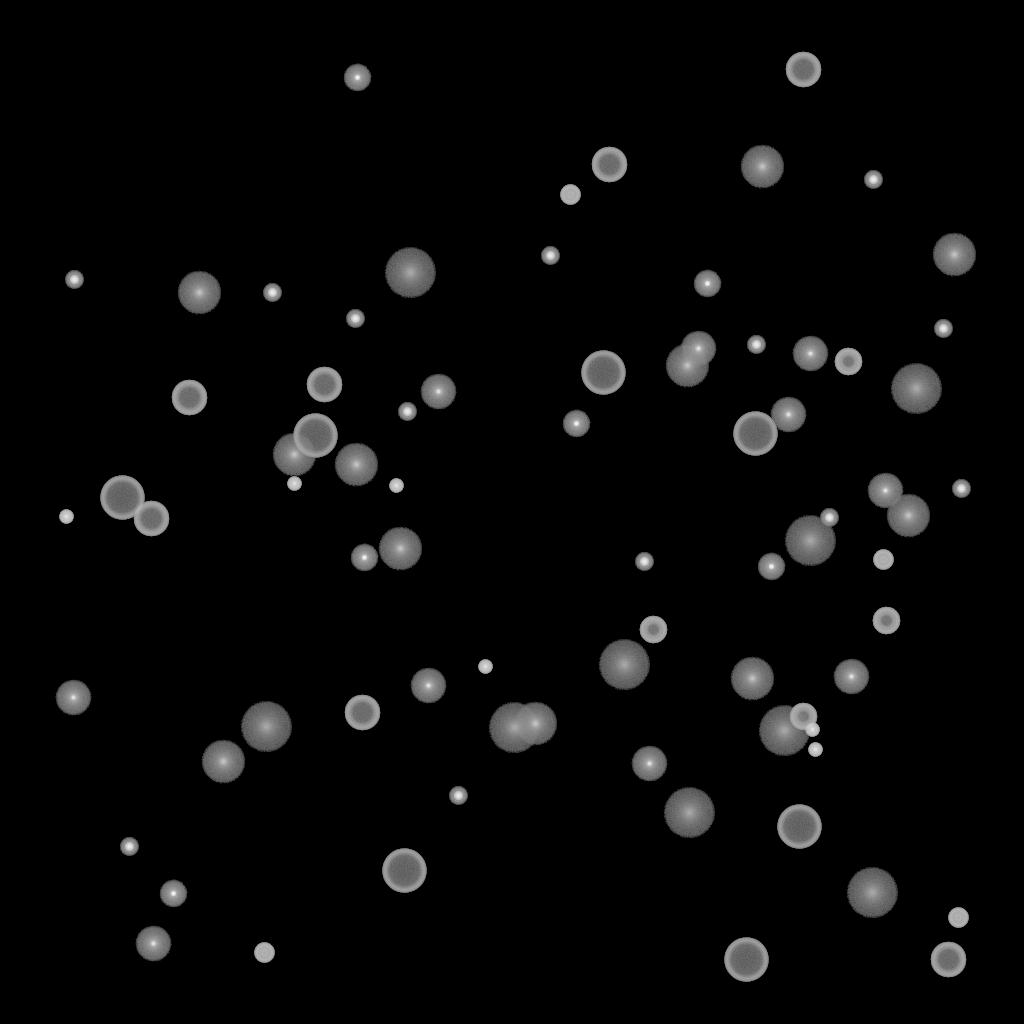depth:-10: (757, 553, 785, 581), (693, 270, 721, 298), (159, 880, 187, 908), (562, 410, 590, 438), (350, 544, 378, 572), (343, 64, 371, 92)
depth:-20: (449, 787, 467, 805), (820, 509, 838, 527), (934, 320, 952, 338), (747, 336, 765, 354), (952, 480, 970, 498), (398, 403, 416, 421), (120, 838, 138, 856), (864, 171, 882, 189), (541, 247, 559, 265), (263, 284, 281, 302), (346, 310, 364, 328), (65, 271, 83, 289), (635, 553, 653, 571)
depth:-30: (478, 660, 492, 674), (389, 479, 403, 493), (287, 477, 301, 491), (808, 743, 822, 757), (805, 723, 819, 737), (59, 510, 73, 524)
depth:-40: (560, 185, 580, 205), (254, 943, 274, 963), (948, 908, 968, 928), (873, 550, 893, 570)
depth:-50: (639, 616, 667, 644), (872, 607, 900, 635), (834, 348, 862, 376), (789, 703, 817, 731)
depth:-60: (133, 501, 169, 537), (930, 942, 966, 978), (344, 695, 380, 731), (171, 380, 207, 416), (785, 52, 821, 88), (306, 367, 342, 403), (591, 147, 627, 183)
depth:-70: (581, 351, 625, 395), (724, 938, 768, 982), (293, 414, 337, 458), (777, 805, 821, 849), (382, 849, 426, 893), (733, 412, 777, 456), (100, 476, 144, 520)
depth:0: (410, 668, 446, 704), (833, 659, 869, 695), (135, 926, 171, 962), (867, 473, 903, 509), (770, 397, 806, 433), (420, 374, 456, 410), (631, 746, 667, 782), (55, 680, 91, 716), (680, 331, 716, 367), (792, 336, 828, 372)
depth:10: (513, 702, 557, 746), (740, 145, 784, 189), (730, 657, 774, 701), (886, 494, 930, 538), (272, 433, 316, 477), (665, 344, 709, 388), (334, 443, 378, 487), (177, 271, 221, 315), (201, 740, 245, 784), (932, 233, 976, 277), (378, 527, 422, 571)
depth:20: (846, 868, 898, 918), (663, 788, 715, 838), (598, 640, 650, 690), (240, 702, 292, 752), (784, 516, 836, 566), (488, 703, 540, 753), (890, 364, 942, 414), (758, 706, 810, 756), (384, 248, 436, 298)
